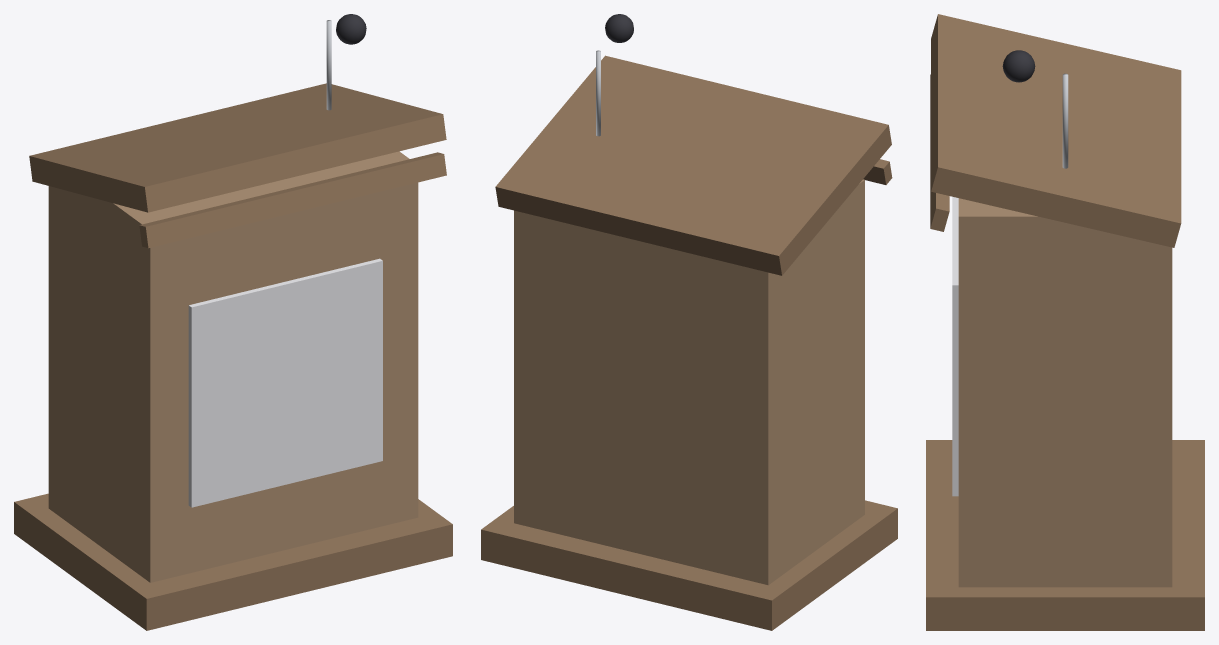
File: lectern.glb
3 views of the same model, side by side, from view 1: azimuth 30°, elevation 25°; view 2: azimuth 150°, elevation 25°; view 3: azimuth 270°, elevation 25° (orthographic). The views are drawn at different scales.
Visible parts, largest first — view 1: Lectern; view 2: Lectern; view 3: Lectern.
Boxes of the visible parts, x1,y1,x2,y2 form: Lectern: (14,14,452,630); Lectern: (481,14,897,630); Lectern: (926,14,1204,630).
Bounding box in the file's own units: 0.8 × 1.3 × 0.6.
